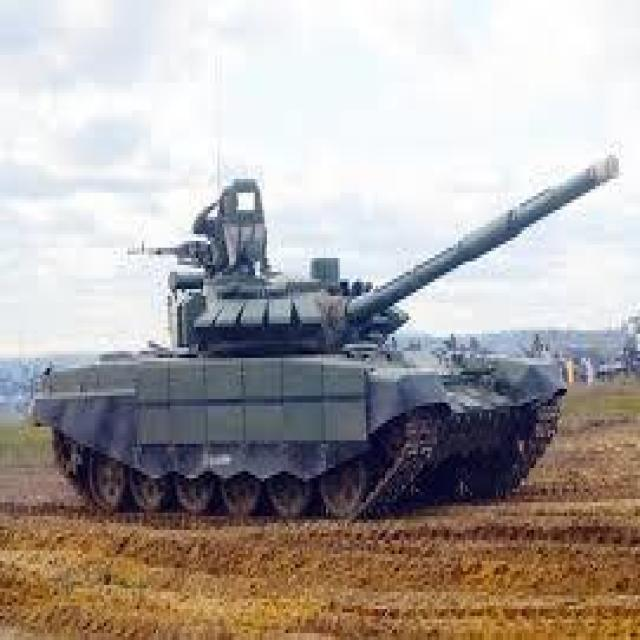MIL_MBT: (31, 160, 609, 511)
